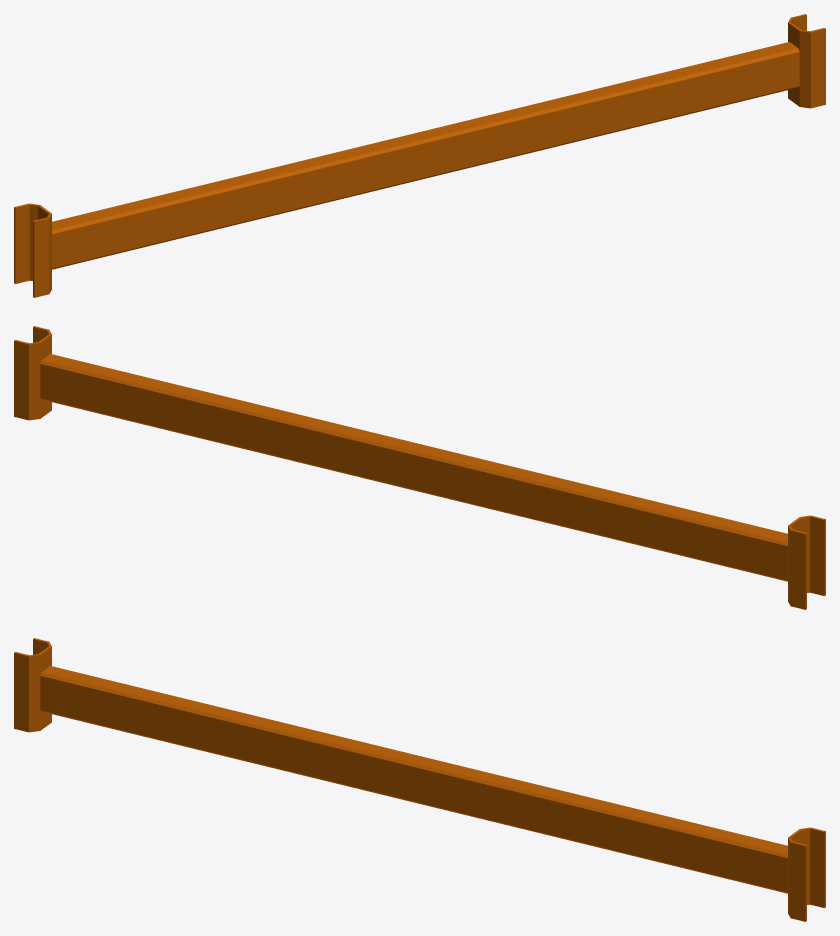
The model's file is shelves-beam.glb.
3 views of the same model, one above another, from view 1: azimuth 30°, elevation 25°; view 2: azimuth 150°, elevation 25°; view 3: azimuth 330°, elevation 25° (orthographic).
Parts seen in each view (by area): view 1: beam; view 2: beam; view 3: beam.
Boxes of the visible parts, x1,y1,x2,y2 form: beam: (14,14,825,297); beam: (14,326,825,609); beam: (14,638,825,921).
Bounding box in the file's own units: 3.16 × 0.2892 × 0.14.
1 material, 1 textured.
